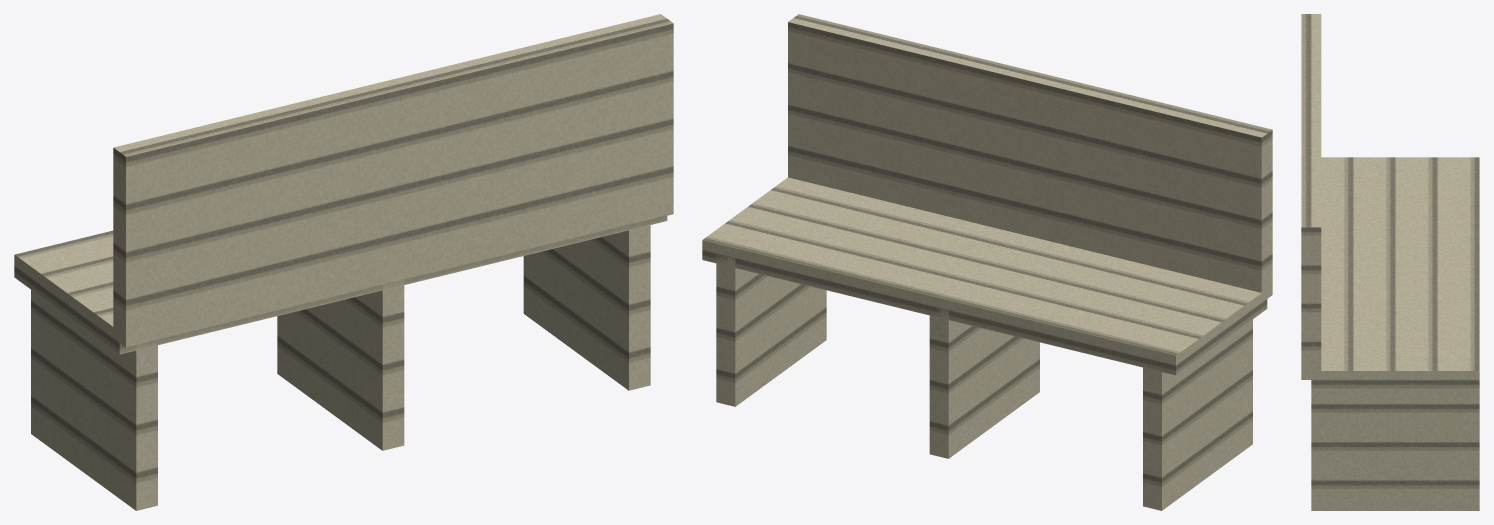
Rendered from waiting_bench.glb.
The picture shows the model from 3 angles, left to right: view 1: azimuth 30°, elevation 25°; view 2: azimuth 150°, elevation 25°; view 3: azimuth 270°, elevation 25°; orthographic projection. The views are drawn at different scales.
Parts seen in each view (by area): view 1: waiting_bench-col; view 2: waiting_bench-col; view 3: waiting_bench-col.
Part boxes in pixels (bbox=[...]): waiting_bench-col: bbox=[14, 14, 673, 510]; waiting_bench-col: bbox=[702, 14, 1272, 510]; waiting_bench-col: bbox=[1301, 14, 1479, 510].
Size of the model in its own units: 1.5 by 0.95 by 0.53.
1 material, 1 textured.
